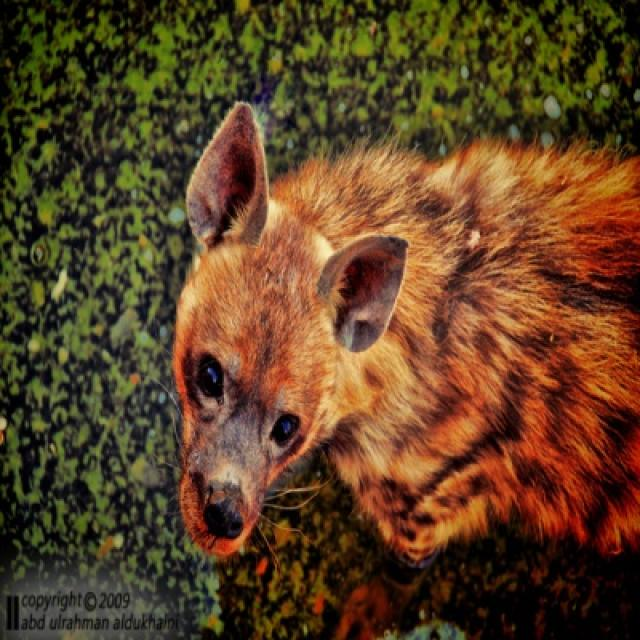hyena: (171, 102, 638, 570)
